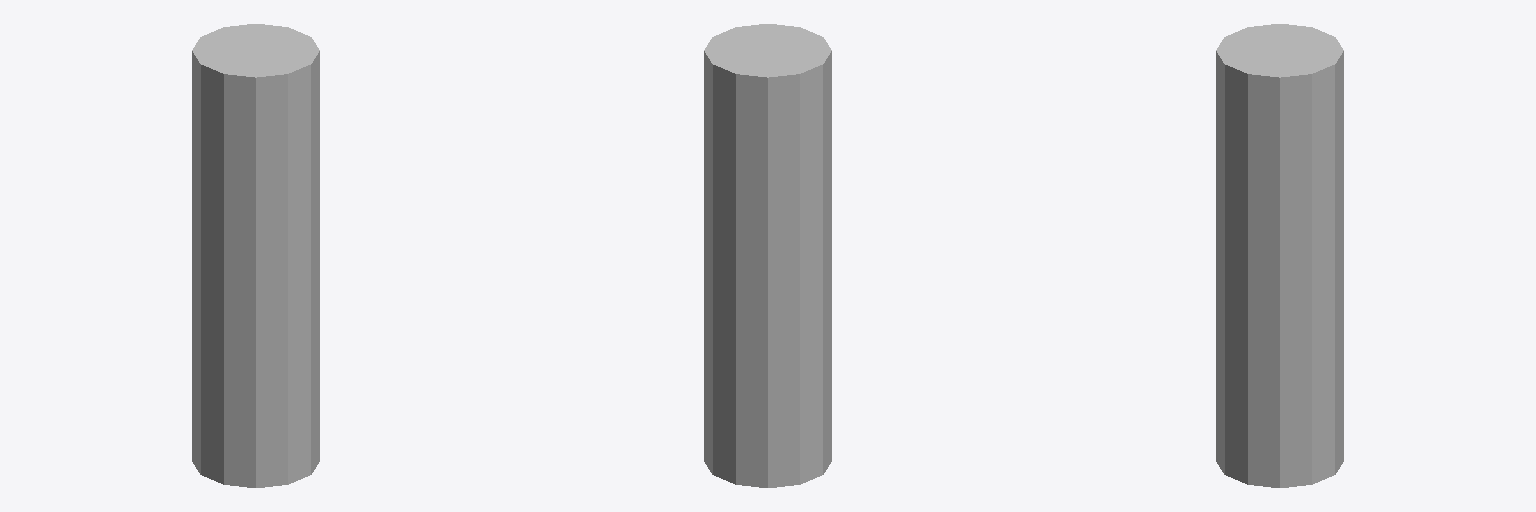
Rendered from Pylon.obj.
3 views of the same model, side by side, from view 1: azimuth 30°, elevation 25°; view 2: azimuth 150°, elevation 25°; view 3: azimuth 270°, elevation 25° (orthographic).
Parts seen in each view (by area): view 1: group[number redacted]; view 2: group[number redacted]; view 3: group[number redacted].
Boxes of the visible parts, x1=… form: group[number redacted]: x1=192, y1=24, x2=319, y2=487; group[number redacted]: x1=704, y1=24, x2=831, y2=487; group[number redacted]: x1=1216, y1=24, x2=1343, y2=487.
Size of the model in its own units: 0.13 by 0.46 by 0.13.